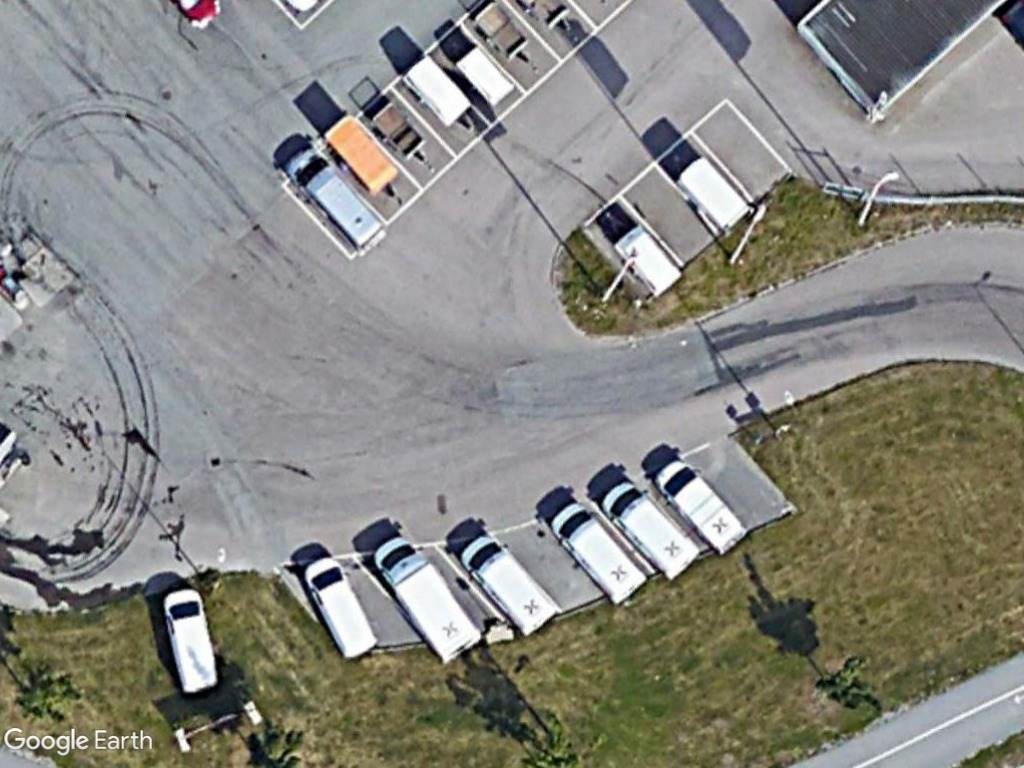van: (376, 535, 485, 665), (599, 479, 704, 585), (285, 145, 387, 253), (548, 499, 649, 608), (459, 530, 560, 638), (654, 457, 751, 561), (303, 554, 382, 667), (160, 584, 221, 696)
